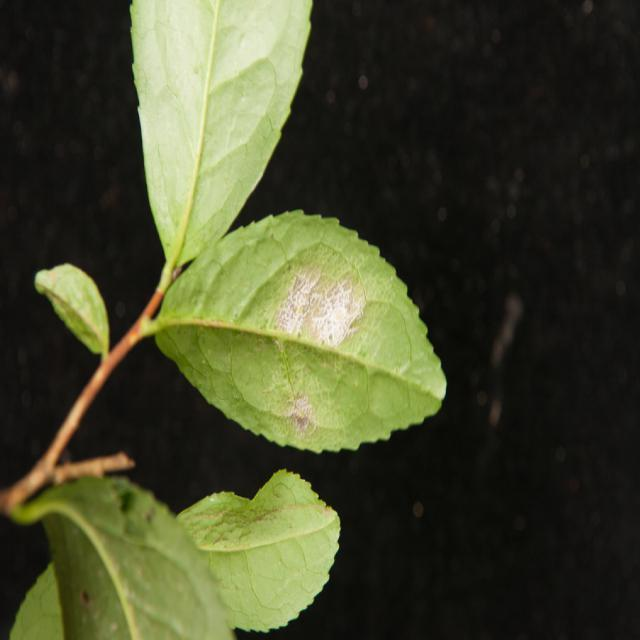Tea exobasidium blight: (277, 238, 367, 369), (287, 388, 338, 441)
